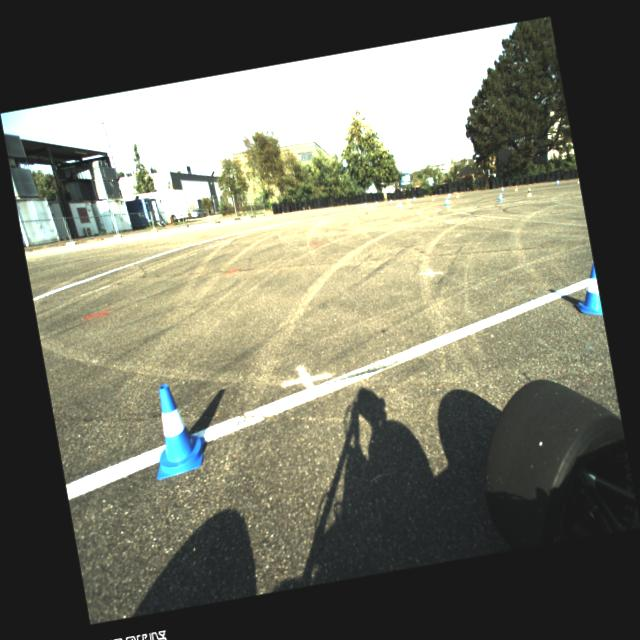blue_cone: (140, 378, 210, 480), (569, 262, 602, 318), (497, 192, 502, 202), (443, 198, 449, 206), (397, 201, 402, 209), (369, 203, 374, 210), (374, 200, 378, 206), (355, 203, 358, 210), (412, 196, 416, 201), (389, 198, 392, 204), (501, 186, 504, 191), (363, 202, 366, 207), (556, 179, 558, 184)
yellow_cone: (526, 187, 532, 197), (408, 198, 412, 206), (395, 199, 399, 206), (404, 197, 408, 203), (576, 177, 580, 183), (430, 195, 434, 200), (455, 192, 459, 197), (514, 185, 518, 190)
